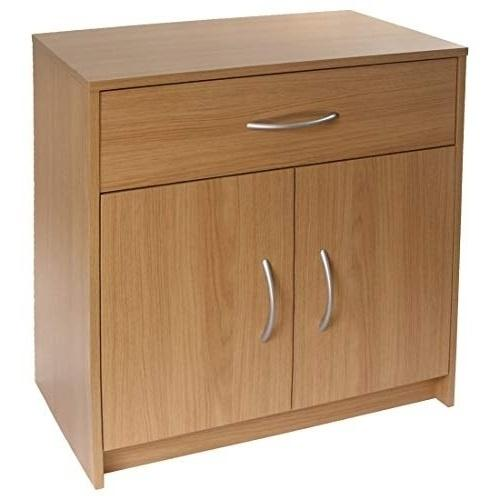cabinet_door: (105, 186, 292, 421), (296, 162, 451, 391), (104, 80, 459, 168)
handle: (244, 108, 343, 136), (315, 244, 339, 331), (258, 254, 281, 342)
